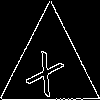X: (25, 41, 69, 98)
